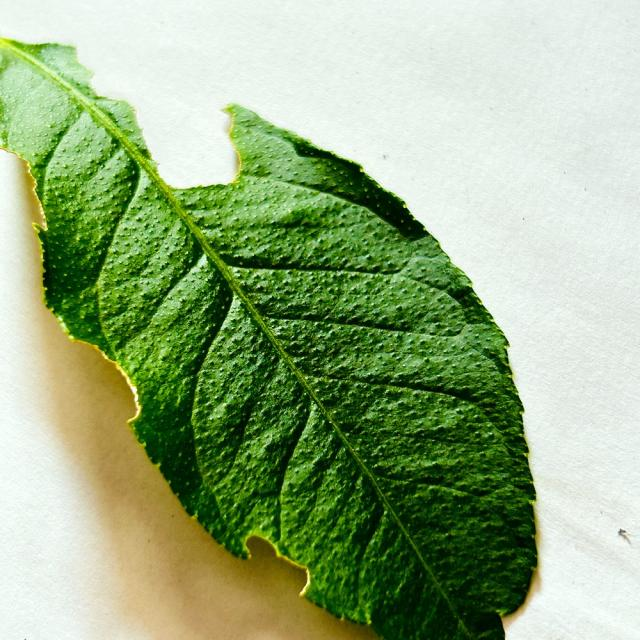Deficiency Leaf: (123, 88, 238, 188), (54, 314, 140, 431), (0, 148, 46, 275), (246, 536, 310, 597)
Lemon: (0, 41, 537, 639)
